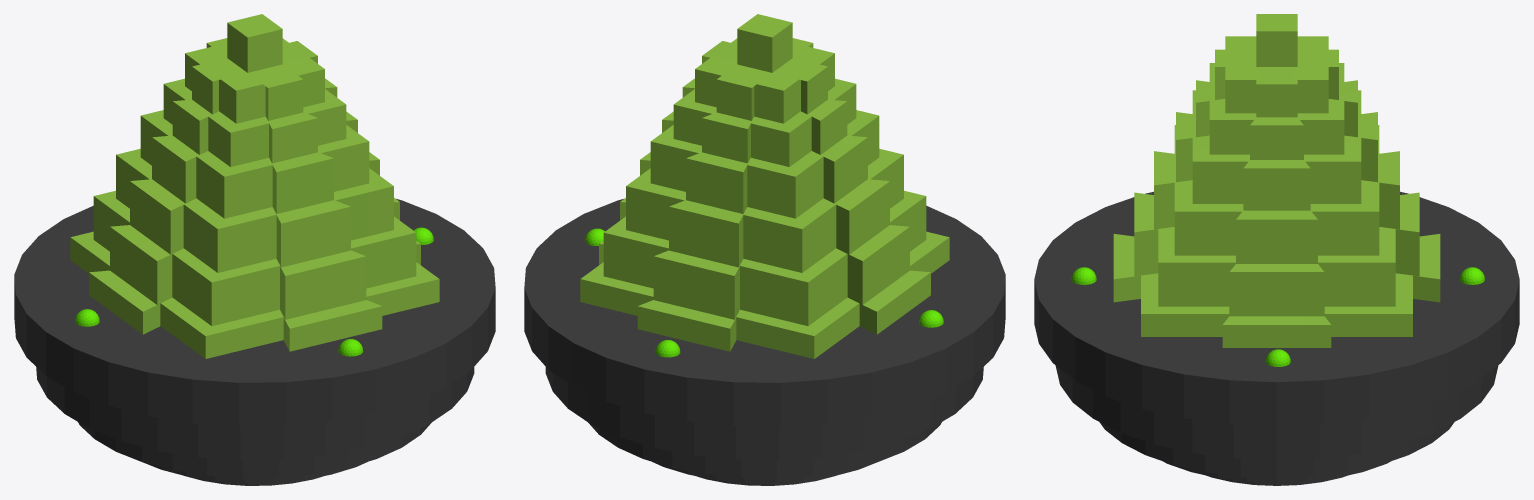
Rendered from alien egg.fbx.
3 renders of one model, left to right at view 1: azimuth 30°, elevation 25°; view 2: azimuth 150°, elevation 25°; view 3: azimuth 270°, elevation 25°, orthographic.
Parts seen in each view (by area): view 1: Icosphere.002_6; view 2: Icosphere.002_6; view 3: Icosphere.002_6.
Boxes of the visible parts, <box> form: Icosphere.002_6: <box>14,14,495,485</box>; Icosphere.002_6: <box>524,14,1005,485</box>; Icosphere.002_6: <box>1034,14,1519,485</box>.
Bounding box in the file's own units: 275 × 259 × 275.
